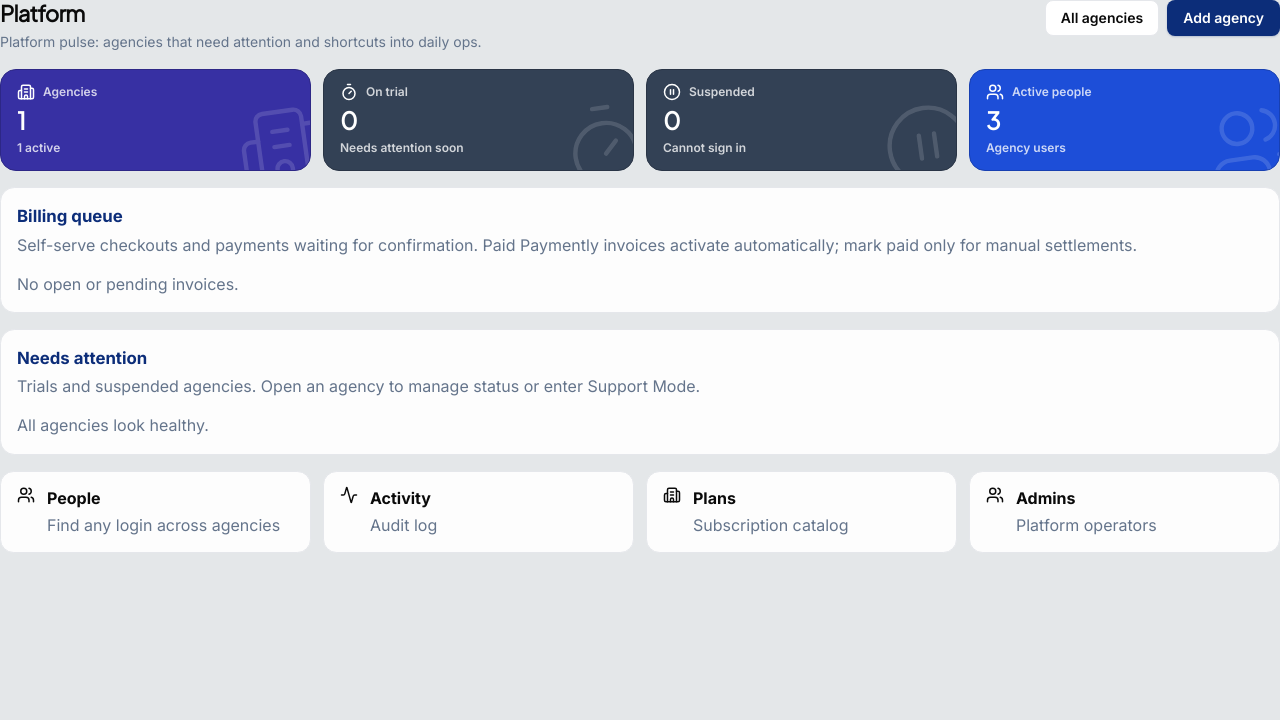
platform admin agencies › takes platform overview Add agency into the create drawer
The image size is (1280, 720).
Click the button "Add agency" at (1224, 18), box [1167, 0, 1279, 36]
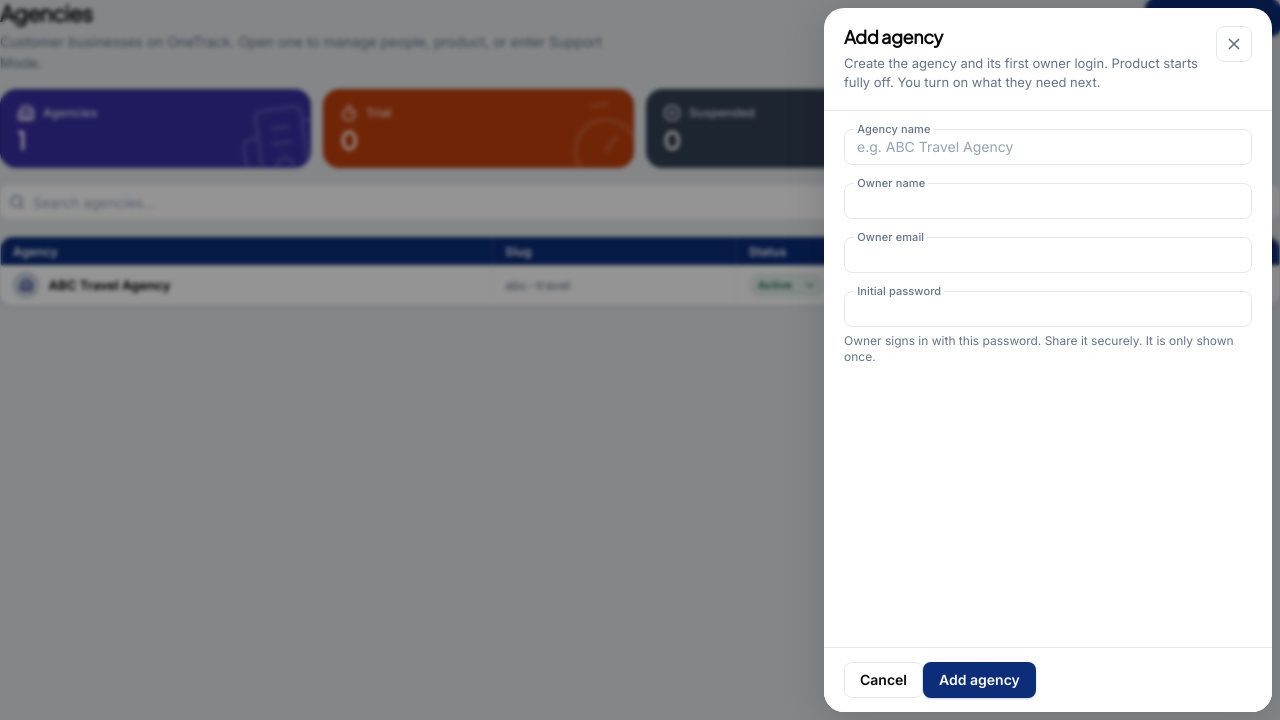
Expected: the heading "Add agency" is shown, [844, 25, 943, 48]
